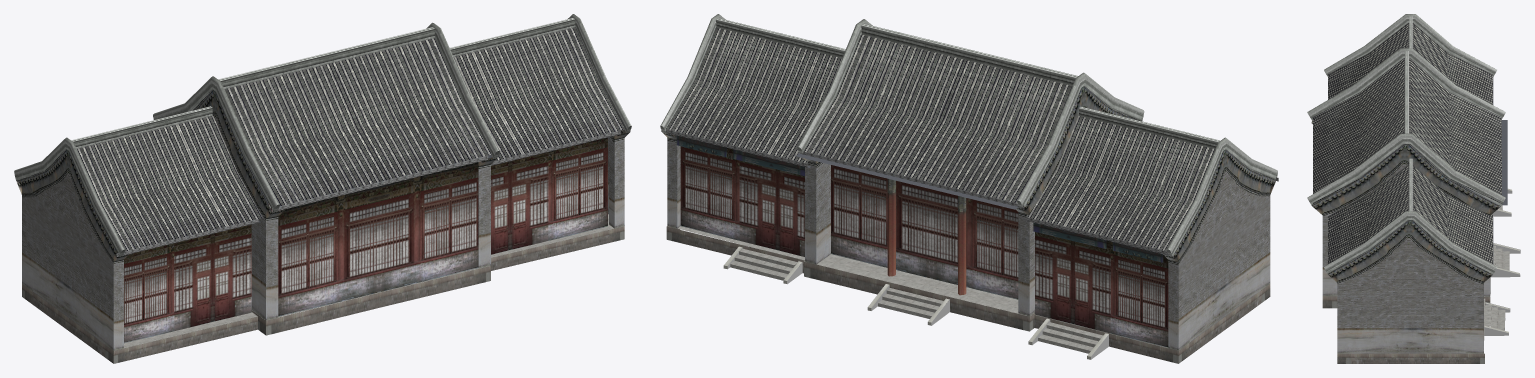
Rendered from 左右左房子.FBX.
The picture shows the model from 3 angles, left to right: view 1: azimuth 30°, elevation 25°; view 2: azimuth 150°, elevation 25°; view 3: azimuth 270°, elevation 25°; orthographic projection. The views are drawn at different scales.
Parts seen in each view (by area): view 1: Object12402, Object12385, Object12415, Object12414, Object12409, Object12391, Object12394, Object12406, Object12410, Object12392, Object12407, Object12403 (+1 smaller); view 2: Object12402, Object12385, Object12413, Object12390, Object12409, Object12394, Object12391, Object12406, Object12410, Object12407, Object12392, Object12396 (+6 smaller); view 3: Object12409, Object12385, Object12402, Object12394, Object12391, Object12406, Object12410, Plane002, Object12407, Object12400, Object12416, Object12418 (+1 smaller).
Part boxes in pixels (x1=…): Object12402: x1=77, y1=27, x2=625, y2=251; Object12385: x1=224, y1=38, x2=499, y2=206; Object12415: x1=124, y1=137, x2=607, y2=343; Object12414: x1=278, y1=162, x2=478, y2=316; Object12409: x1=16, y1=129, x2=630, y2=350; Object12391: x1=192, y1=89, x2=496, y2=320; Object12394: x1=153, y1=22, x2=499, y2=212; Object12406: x1=14, y1=14, x2=631, y2=256; Object12410: x1=22, y1=226, x2=624, y2=363; Object12392: x1=251, y1=266, x2=490, y2=335; Object12407: x1=124, y1=214, x2=613, y2=348; Object12403: x1=16, y1=130, x2=620, y2=256; Object12402: x1=666, y1=27, x2=1215, y2=251; Object12385: x1=796, y1=34, x2=1072, y2=203; Object12413: x1=680, y1=146, x2=1168, y2=347; Object12390: x1=831, y1=165, x2=1018, y2=299; Object12409: x1=662, y1=132, x2=1275, y2=350; Object12394: x1=797, y1=19, x2=1144, y2=207; Object12391: x1=798, y1=86, x2=1138, y2=316; Object12406: x1=660, y1=14, x2=1277, y2=256; Object12410: x1=666, y1=226, x2=1270, y2=363; Object12407: x1=678, y1=226, x2=1167, y2=353; Object12392: x1=804, y1=261, x2=1034, y2=331; Object12396: x1=804, y1=254, x2=1024, y2=315; Object12409: x1=1328, y1=220, x2=1492, y2=353; Object12385: x1=1312, y1=58, x2=1501, y2=203; Object12402: x1=1328, y1=22, x2=1492, y2=271; Object12394: x1=1307, y1=48, x2=1505, y2=205; Object12391: x1=1311, y1=58, x2=1500, y2=296; Object12406: x1=1324, y1=14, x2=1496, y2=274; Object12410: x1=1337, y1=302, x2=1485, y2=363; Plane002: x1=1419, y1=120, x2=1507, y2=205; Object12407: x1=1483, y1=205, x2=1505, y2=350; Object12400: x1=1484, y1=190, x2=1512, y2=335; Object12416: x1=1493, y1=246, x2=1509, y2=270; Object12418: x1=1491, y1=243, x2=1520, y2=277.
Bounding box in the file's own units: 945 × 382 × 426.
